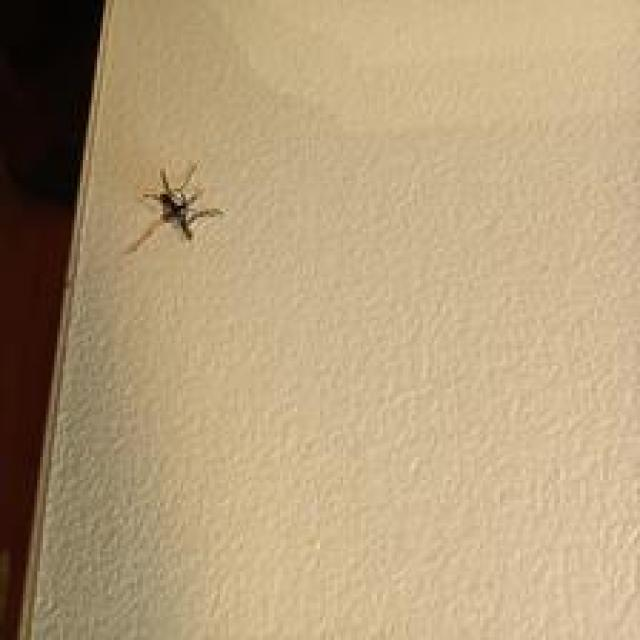Aedes albopictus: (124, 160, 224, 254)
